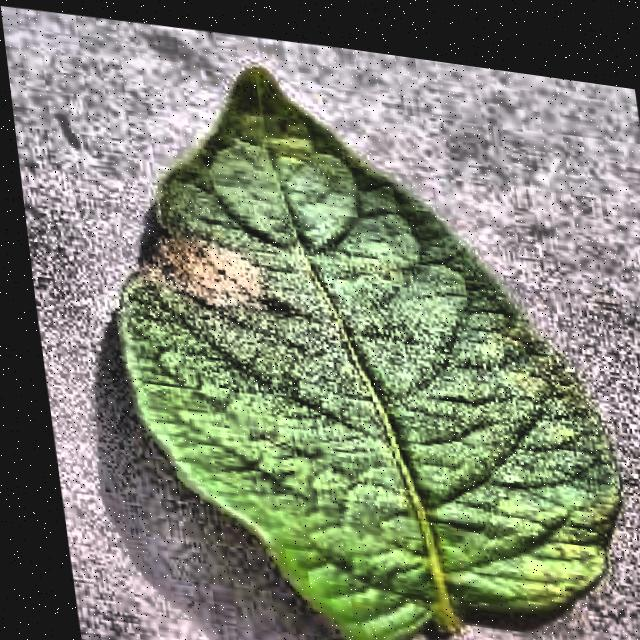Potato_leaf_late_blight: (113, 55, 634, 639)
